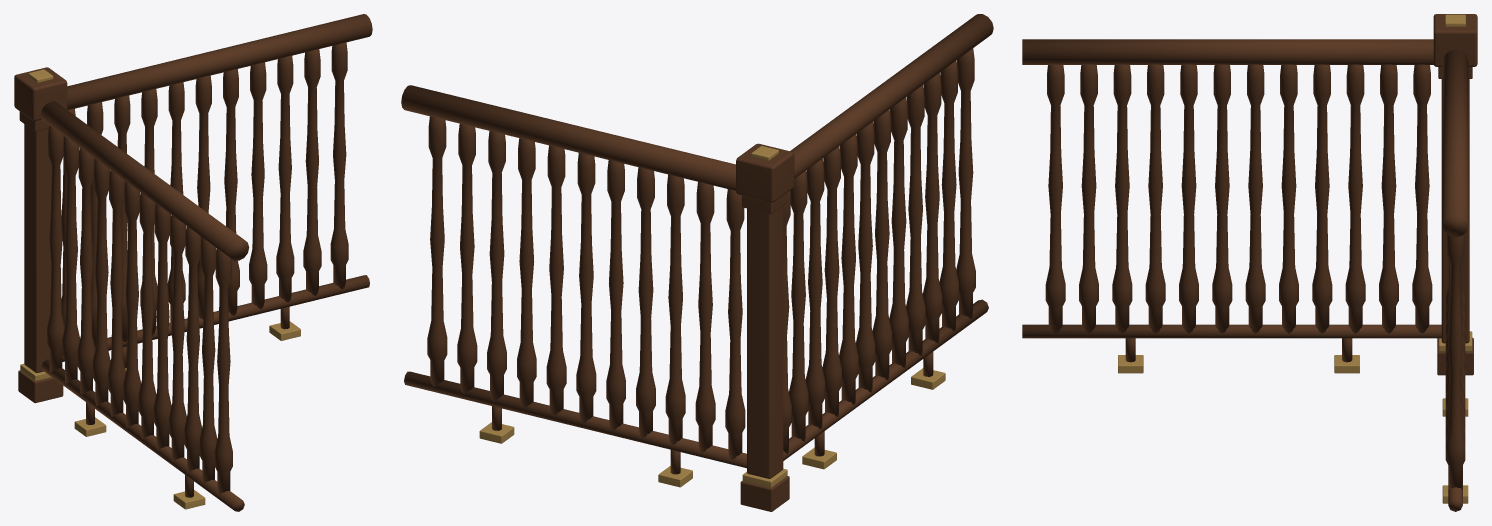
File: rpg-mansion-stair-landing-guard-corner-01.glb
3 renders of one model, left to right at view 1: azimuth 30°, elevation 25°; view 2: azimuth 150°, elevation 25°; view 3: azimuth 270°, elevation 25°, orthographic. The views are drawn at different scales.
Parts seen in each view (by area): view 1: rpg-mansion-stair-landing-guard-corner-01; view 2: rpg-mansion-stair-landing-guard-corner-01; view 3: rpg-mansion-stair-landing-guard-corner-01.
Part boxes in pixels (box(x1,y1,x2,y2)): rpg-mansion-stair-landing-guard-corner-01: box(14, 14, 372, 511); rpg-mansion-stair-landing-guard-corner-01: box(401, 14, 993, 511); rpg-mansion-stair-landing-guard-corner-01: box(1022, 14, 1477, 511).
Bounding box in the file's own units: 1.18 × 1.05 × 1.24.
